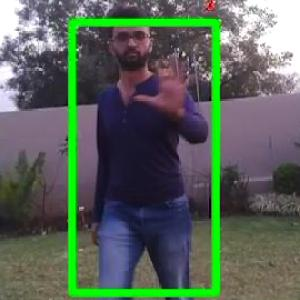follow_hand: (130, 44, 196, 116)
